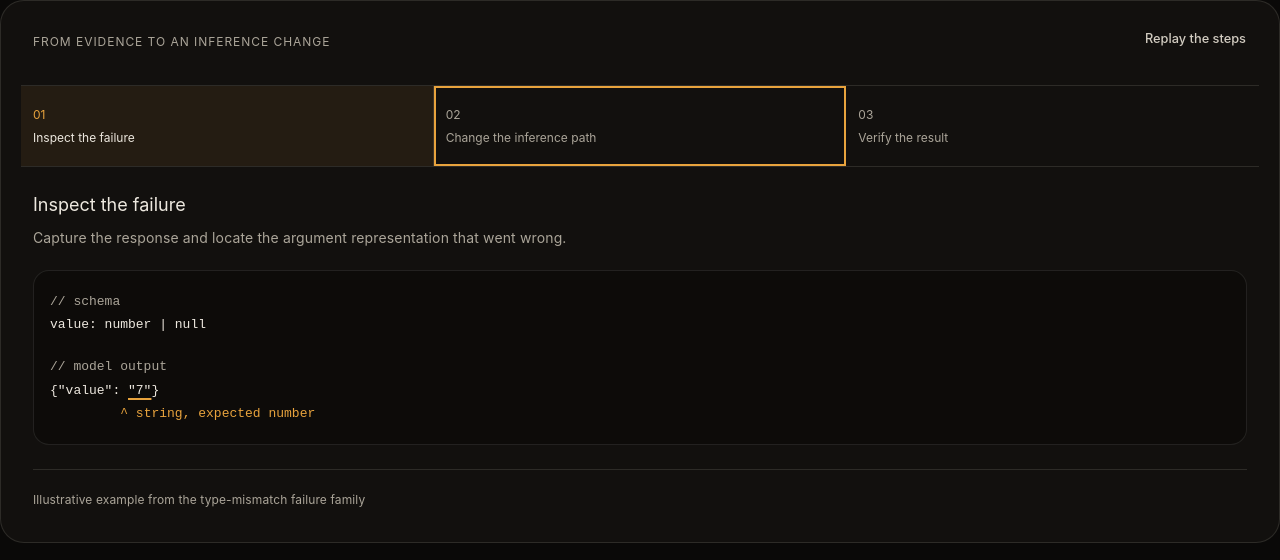
Test case: InferenceExample › keeps every step panel in the DOM and switches which one is visible
Expected: the text "string, expected number" is shown, left=136, top=406, right=315, bottom=421
Press Enter
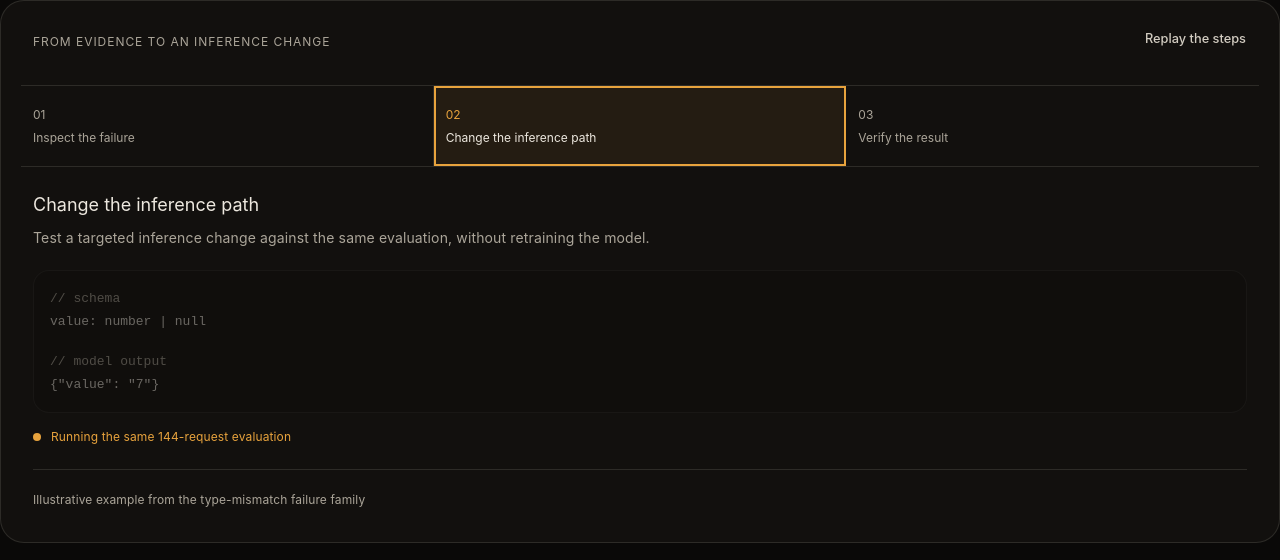
Now the heading "Change the inference path" is shown, box left=33, top=194, right=259, bottom=215
Now the text "Running the same 144-request evaluation" is shown, box left=33, top=429, right=291, bottom=444
Click the button "03 Verify the result" at [903, 138], box left=846, top=86, right=1259, bottom=166
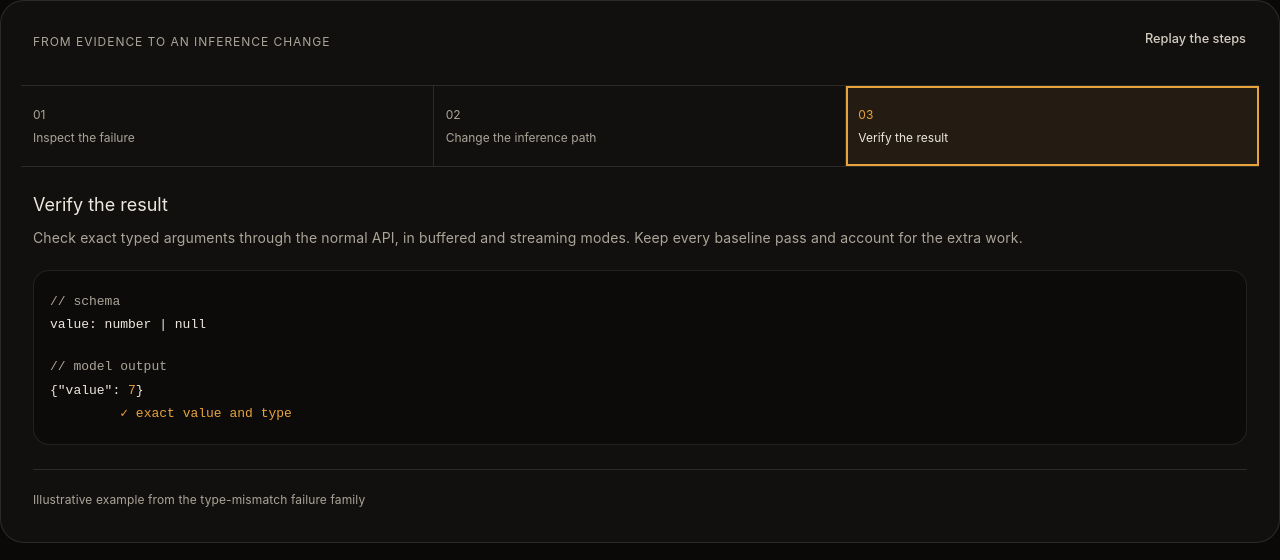
Expected: the text "Illustrative example from the type-mismatch failure family" is shown, left=33, top=469, right=1247, bottom=510
Now the heading "Verify the result" is shown, box left=33, top=194, right=168, bottom=215
Now the text "exact value and type" is shown, box left=136, top=406, right=292, bottom=421
